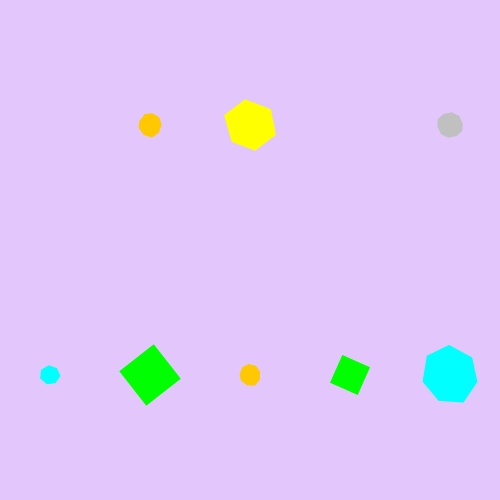decagon: (433, 109, 468, 142)
heptagon: (418, 344, 482, 406), (36, 361, 65, 389)
hexagon: (219, 100, 281, 151)
nonagon: (134, 110, 166, 141), (235, 361, 265, 390)
quadrilateral: (117, 342, 184, 409), (325, 350, 375, 400)
